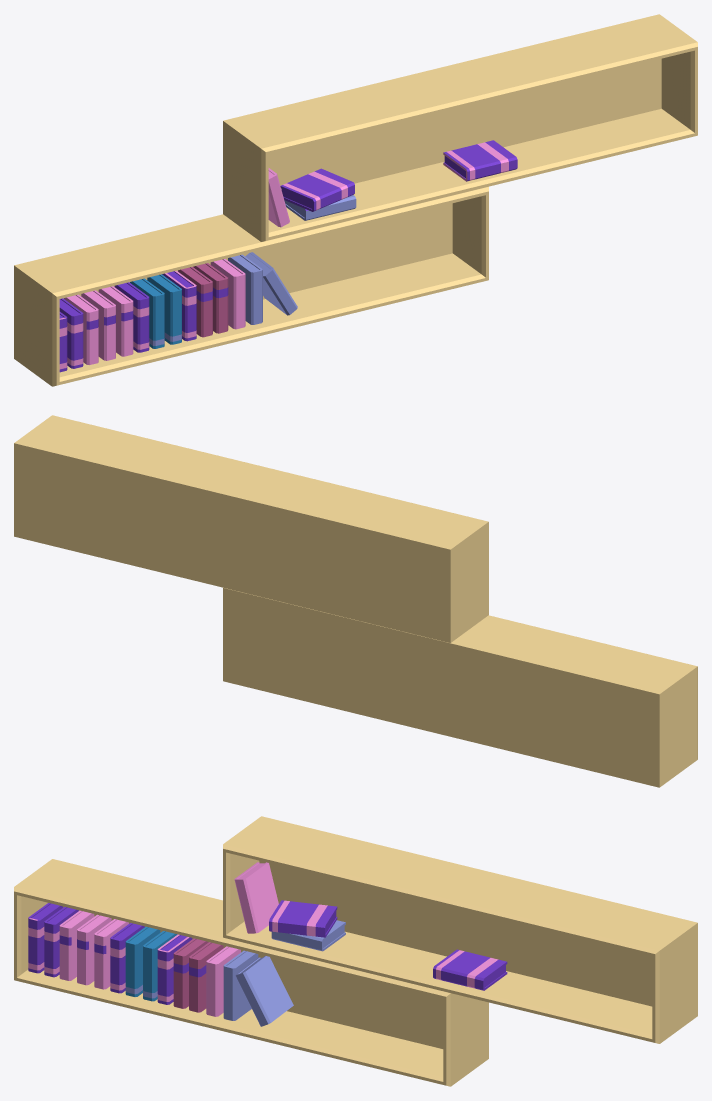
Rendered from Shelf.fbx.
3 views of the same model, one above another, from view 1: azimuth 30°, elevation 25°; view 2: azimuth 150°, elevation 25°; view 3: azimuth 330°, elevation 25° (orthographic).
Visible parts, largest first — view 1: Shelf, Books; view 2: Shelf; view 3: Shelf, Books.
Part boxes in pixels (x1,y1,x2,y2): Shelf: [14, 14, 697, 386]; Books: [59, 140, 517, 372]; Shelf: [14, 415, 697, 787]; Shelf: [14, 816, 697, 1086]; Books: [28, 862, 507, 1026].
Bounding box in the file's own units: 177 × 49.05 × 19.84.
